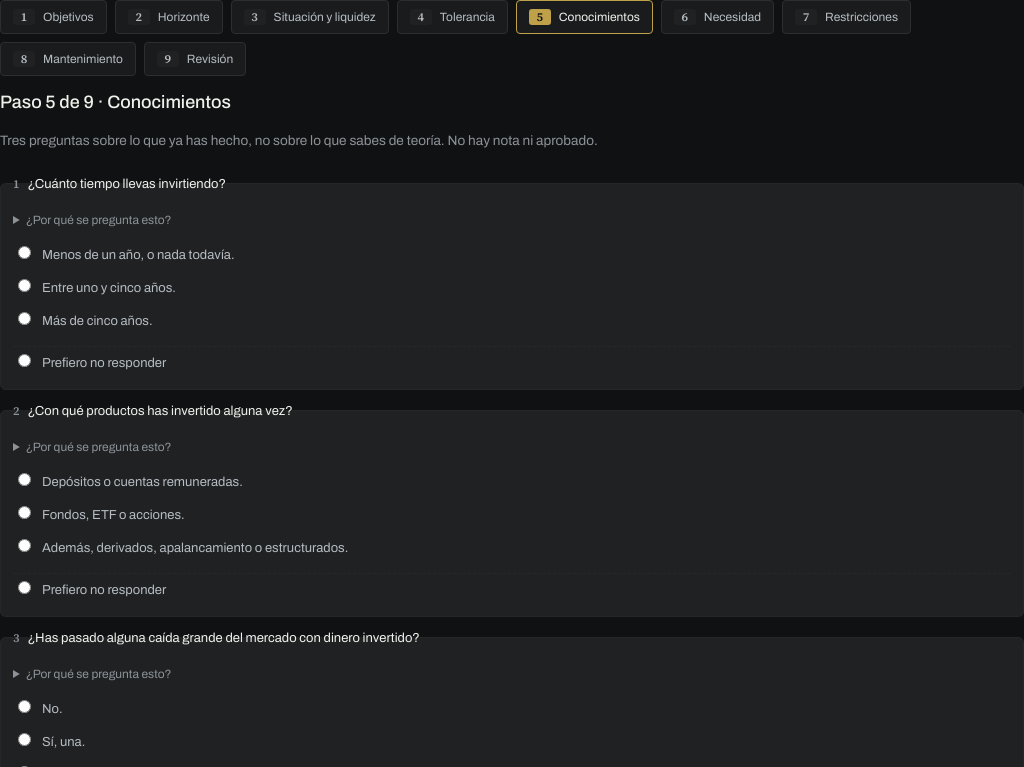
Test: IpsWizard · conocimientos › guarda el nivel sin tocar ninguna banda de riesgo
The image size is (1024, 767).
Click the radio button labelled "Entre uno y cinco años.".
click(24, 286)  # box [18,279,31,292]
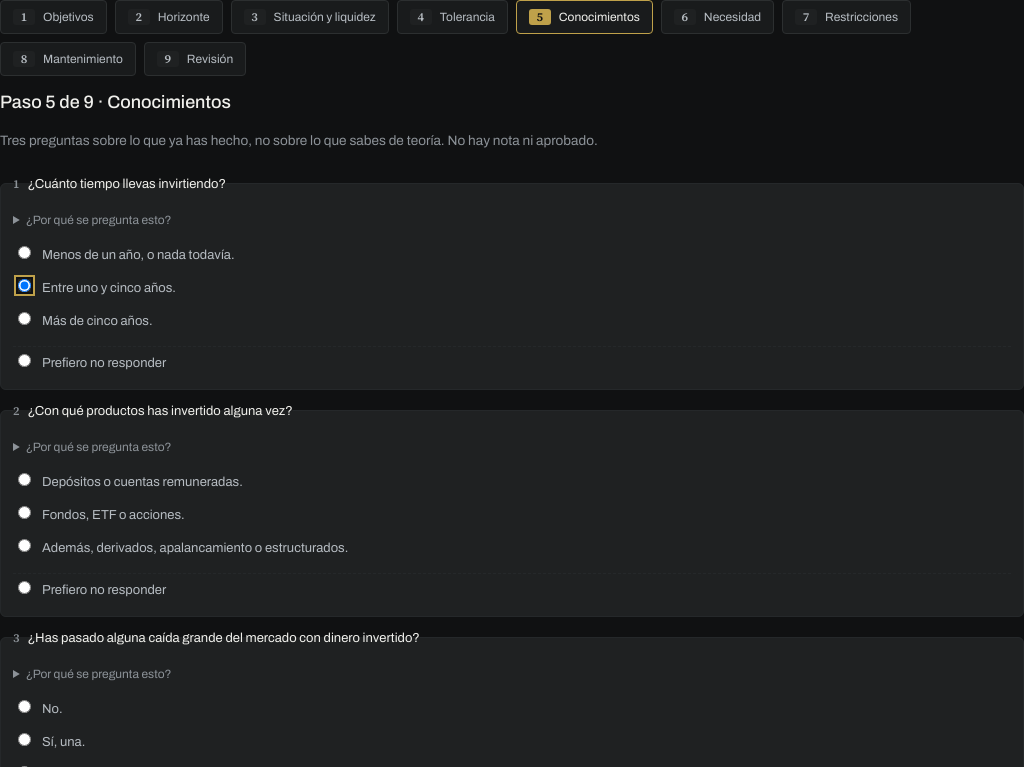
Click the radio button labelled "Fondos, ETF o acciones.".
click(24, 512)  # box [18,506,31,519]
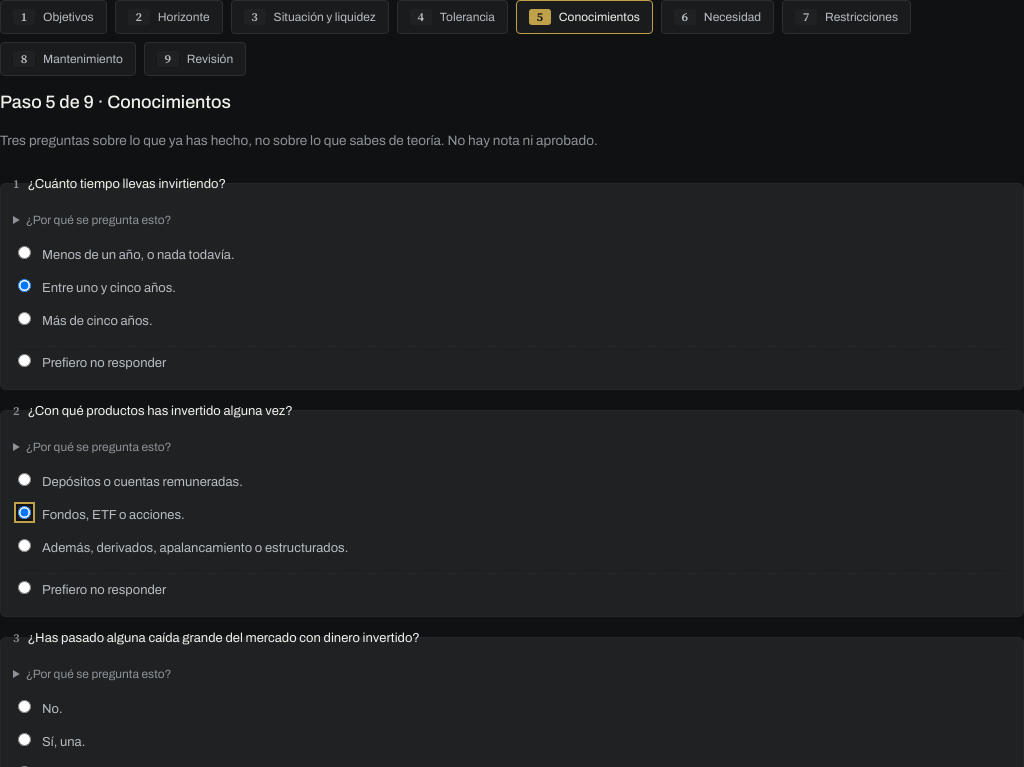
Click the radio button labelled "Sí, una.".
click(24, 739)  # box [18,733,31,746]
(page scrolled)
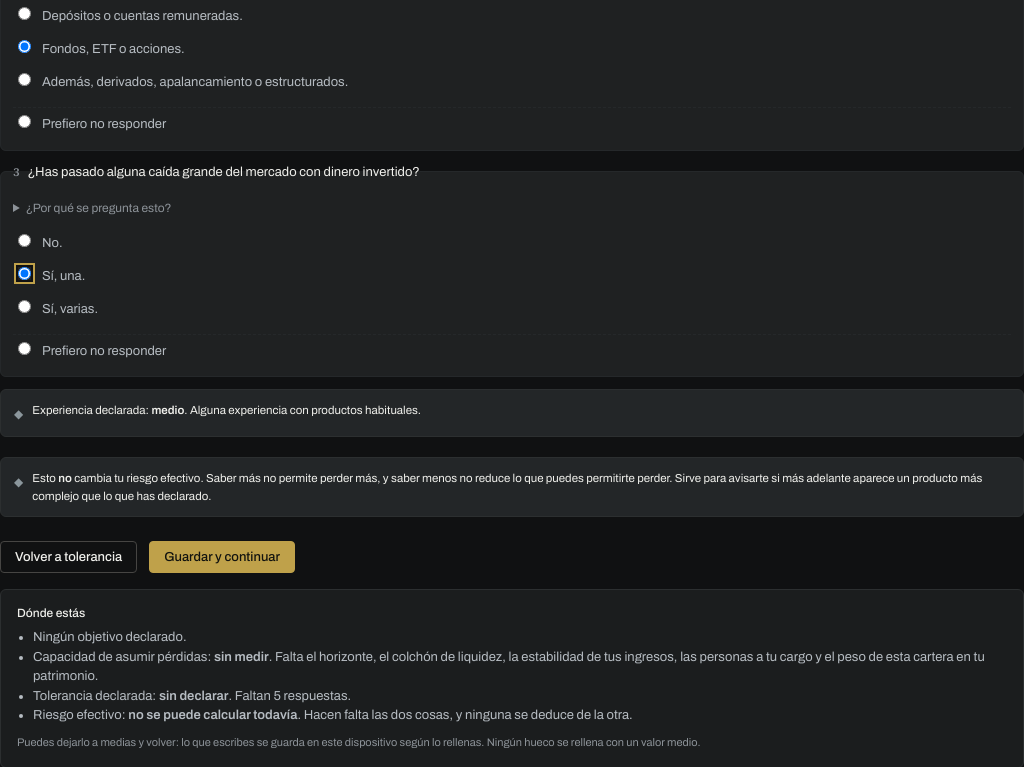
Expected: the text "medio" is shown, [151,404,184,416]
